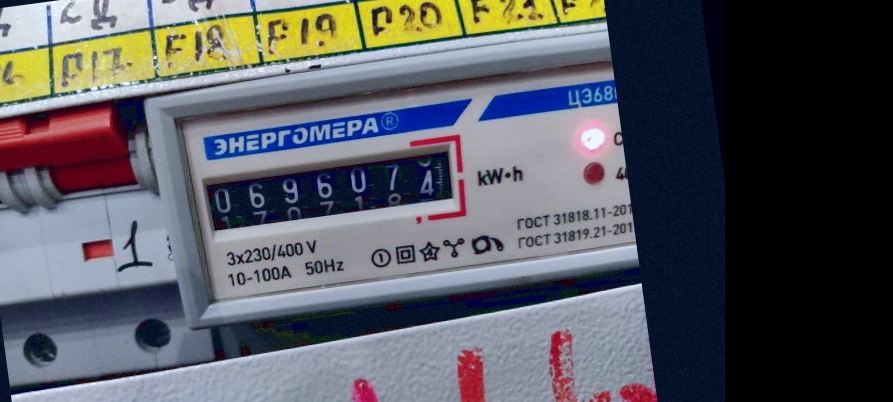0: (212, 184, 234, 215), (346, 165, 369, 194)
4: (415, 168, 437, 198)
6: (245, 180, 267, 209), (314, 169, 335, 199)
7: (381, 160, 404, 192)
9: (279, 176, 301, 206)
screen: (188, 129, 476, 252)
